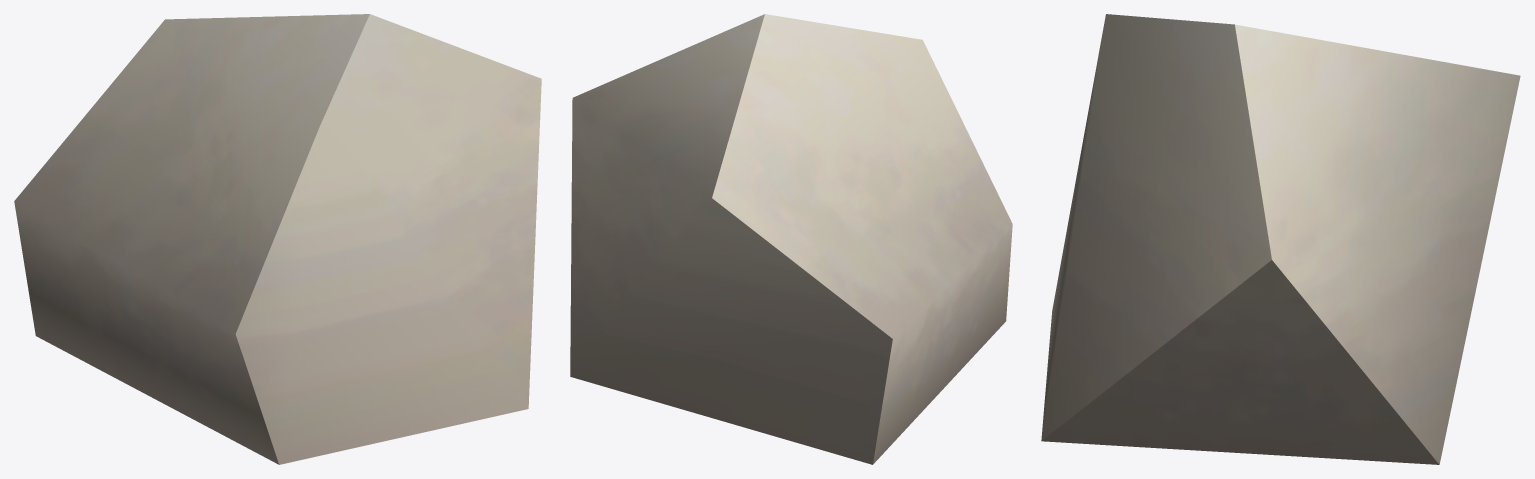
File: Misc_Rock.fbx
3 renders of one model, left to right at view 1: azimuth 30°, elevation 25°; view 2: azimuth 150°, elevation 25°; view 3: azimuth 270°, elevation 25°, orthographic. The views are drawn at different scales.
Parts seen in each view (by area): view 1: Rock; view 2: Rock; view 3: Rock.
Part boxes in pixels (x1,y1,x2,y2): Rock: [14, 14, 541, 464]; Rock: [570, 14, 1012, 464]; Rock: [1041, 14, 1520, 464].
Size of the model in its own units: 0.5719 by 0.4363 by 0.4994.
